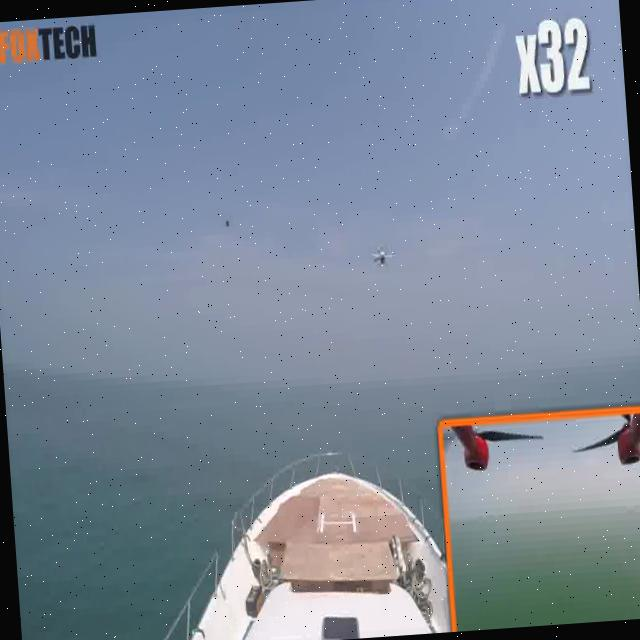drone: (216, 200, 247, 244), (366, 237, 396, 278)
